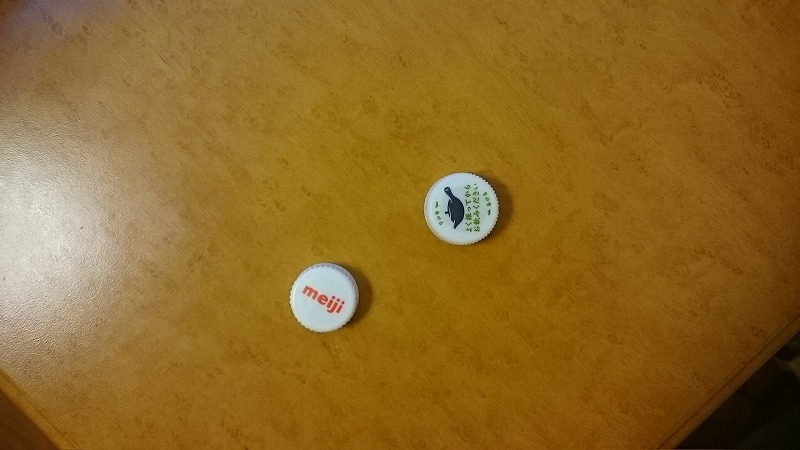A: (422, 165, 510, 256)
B: (280, 252, 370, 340)
